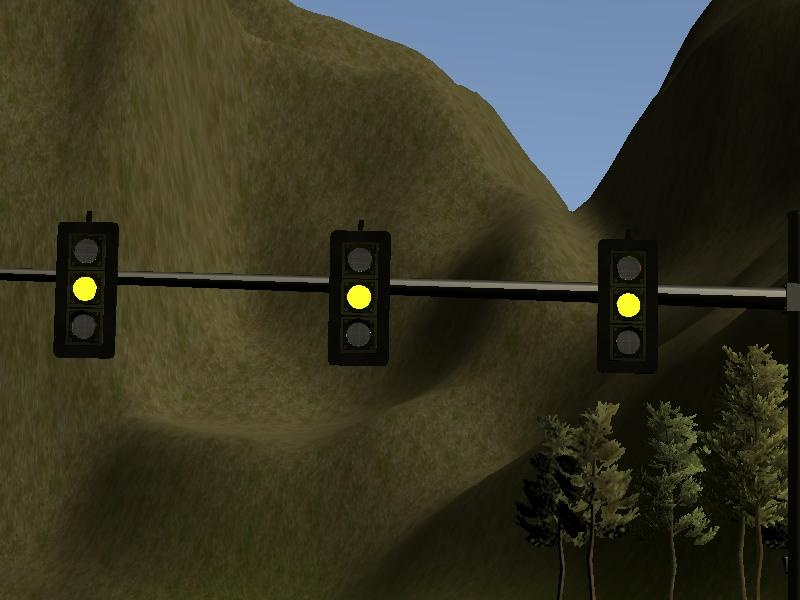YELLOW: (594, 235, 664, 382), (50, 218, 118, 358), (325, 228, 391, 365)
